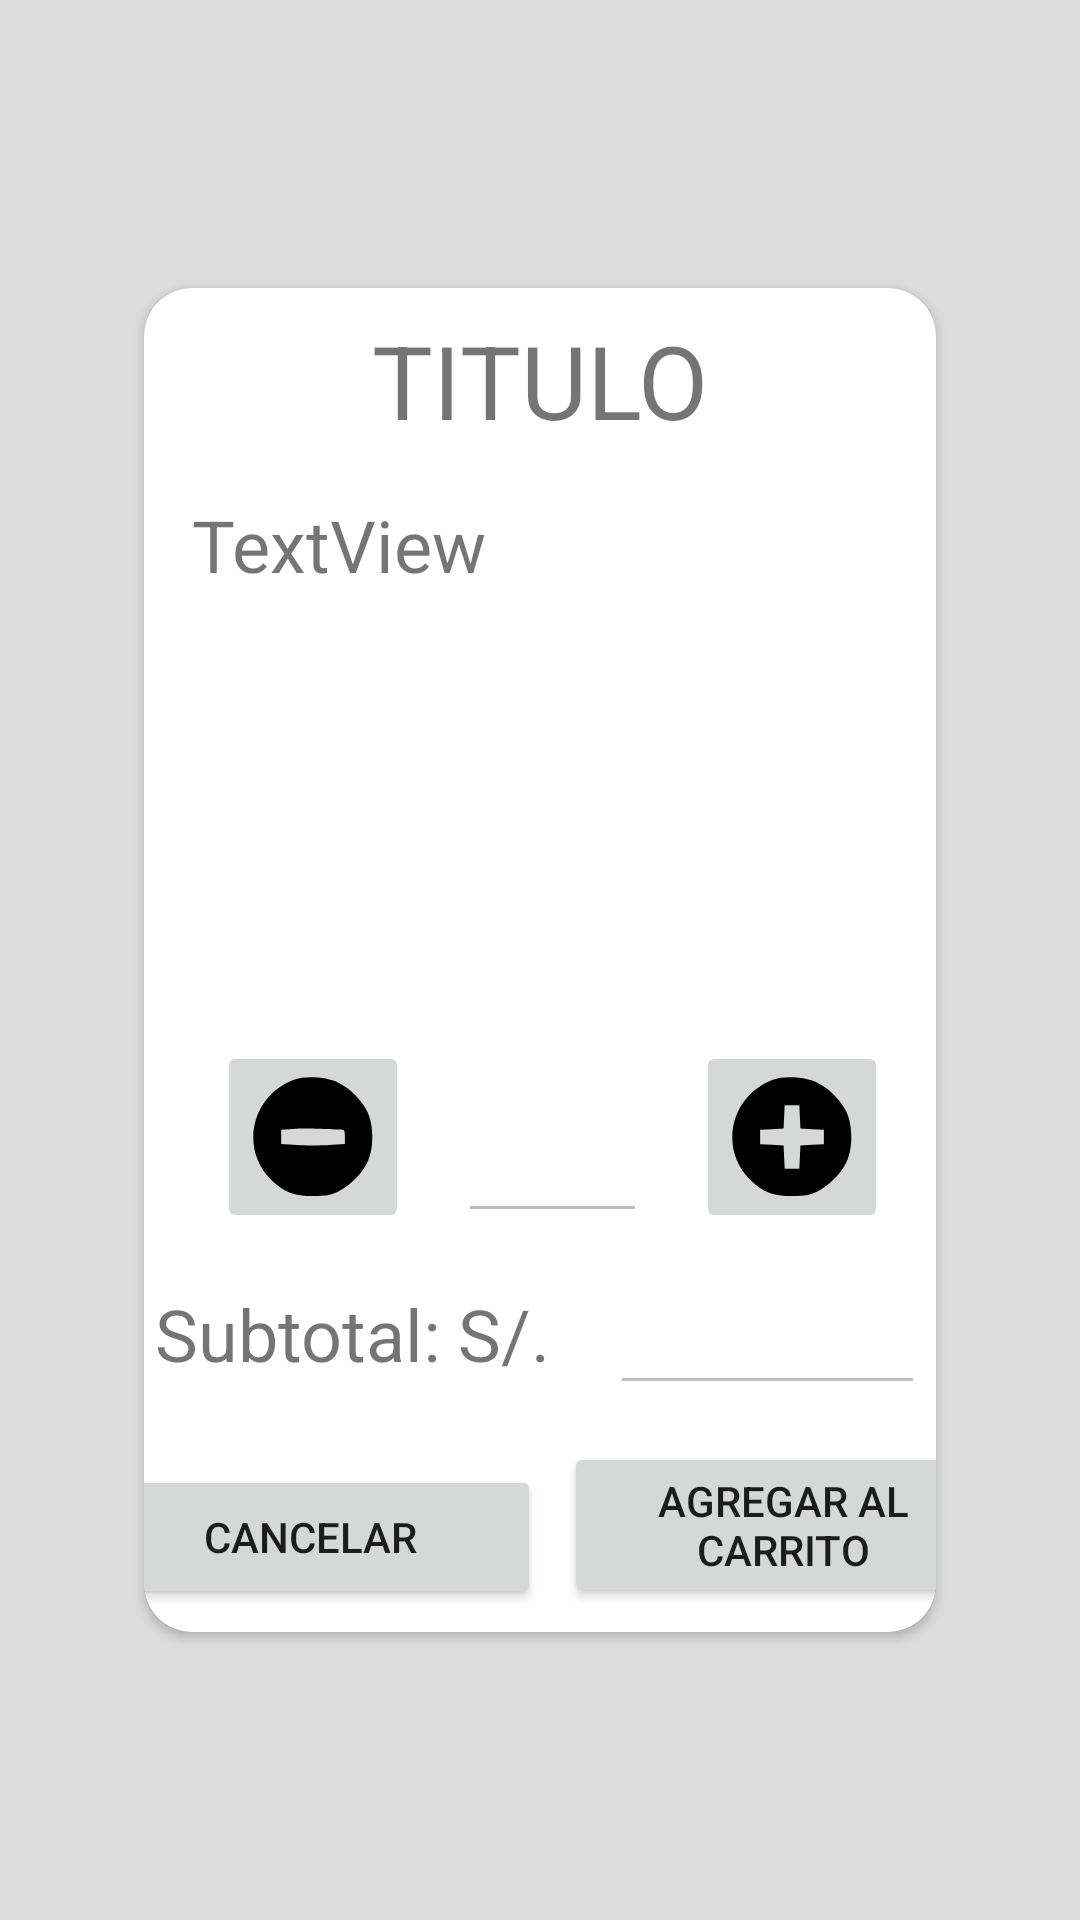

Icon bounding boxes for this 1080px x 1920px phone screenshot, format (x1, y1, x2, y2):
less: (229, 1059, 397, 1215)
plus: (708, 1059, 876, 1215)
